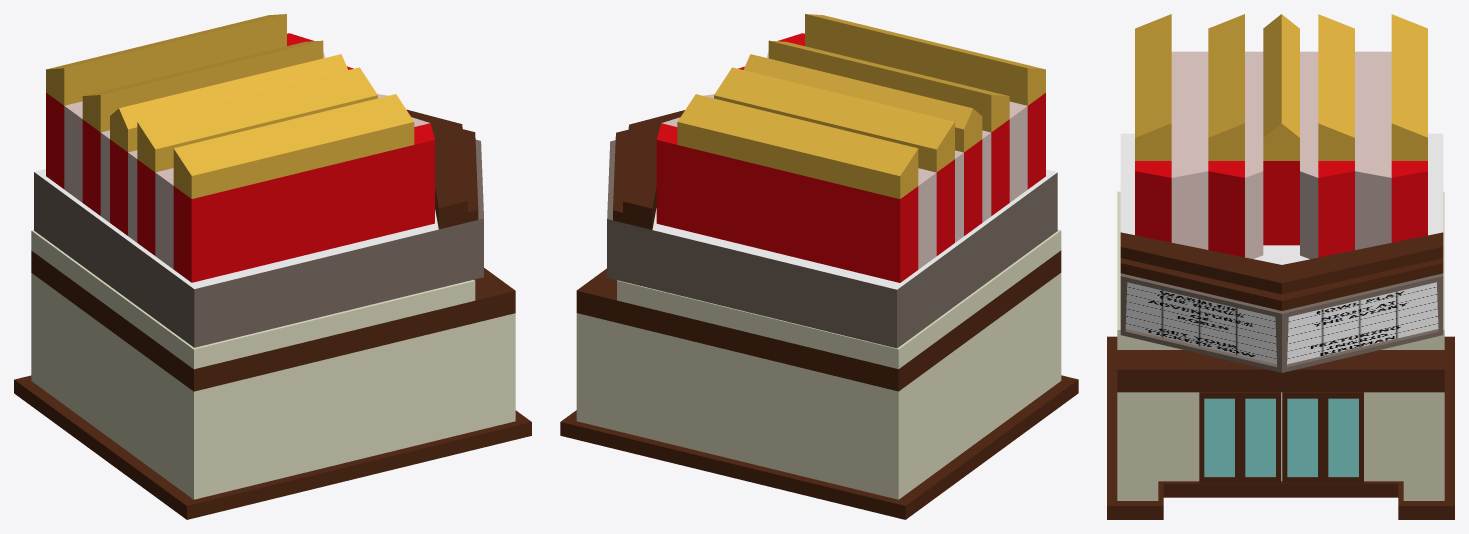
File: movies.fbx
3 views of the same model, side by side, from view 1: azimuth 30°, elevation 25°; view 2: azimuth 150°, elevation 25°; view 3: azimuth 270°, elevation 25° (orthographic).
Parts seen in each view (by area): view 1: Cube.051; view 2: Cube.051; view 3: Cube.051.
Boxes of the visible parts, left/top/right/bottom form: Cube.051: left=14, top=14, right=531, bottom=519; Cube.051: left=560, top=14, right=1078, bottom=519; Cube.051: left=1107, top=14, right=1454, bottom=519.
Size of the model in its own units: 3516 by 3031 by 2762.
8 materials, 1 textured.
